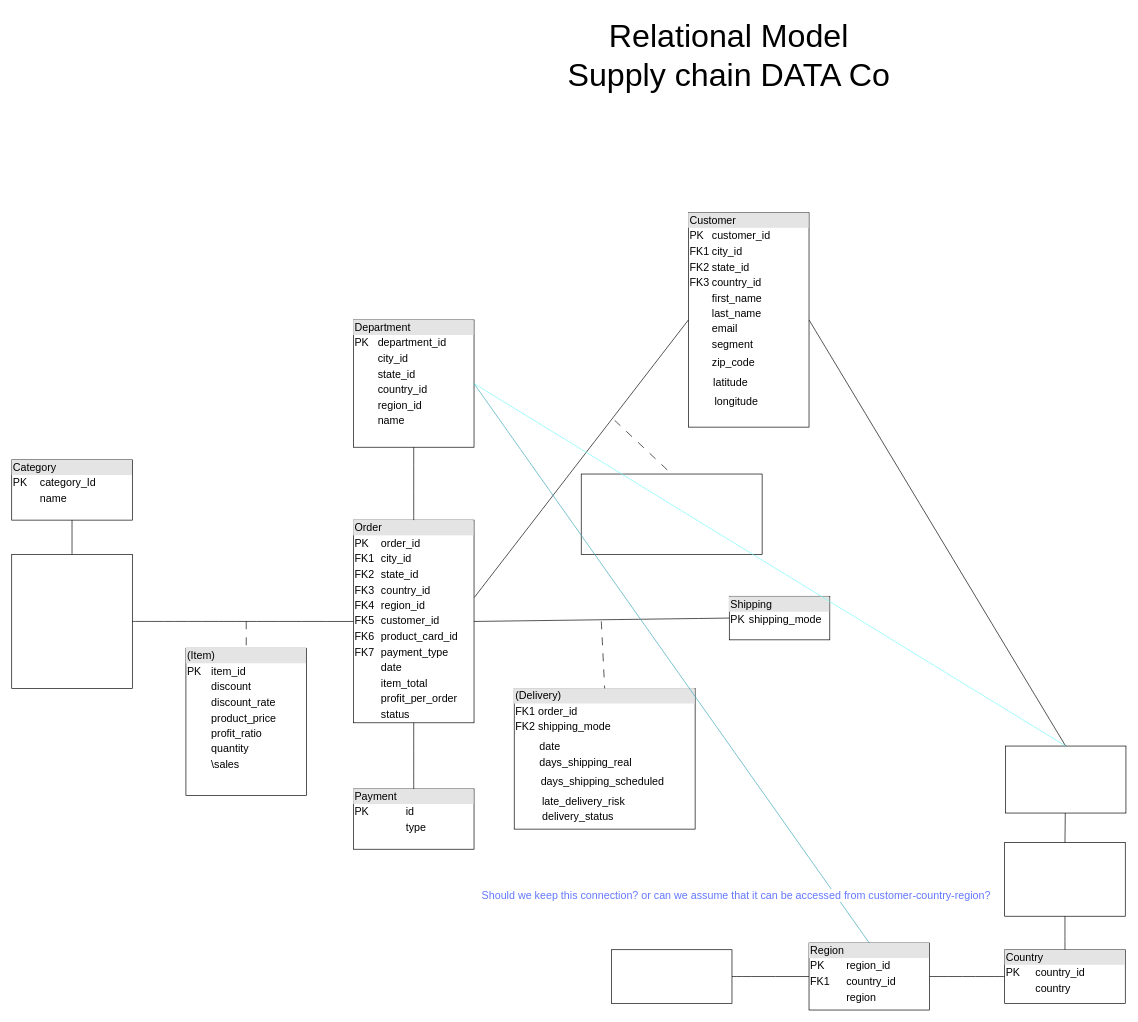
Image size: 1138x1022. Some labels were removed from this diagram. Here are the shapes that lost their labels. From the top down, the box of each, then its label:
(581, 473, 762, 554): FK1 order_id FK2 customer_id sales_per_customer
(11, 554, 132, 688): Product PK card_id FK1 category_id description image name price status
(1005, 745, 1126, 813): City PK city_id FK1 state_id city
(1004, 842, 1125, 916): State PK state_id FK1 country_id state
(611, 949, 732, 1003): Market PK market
